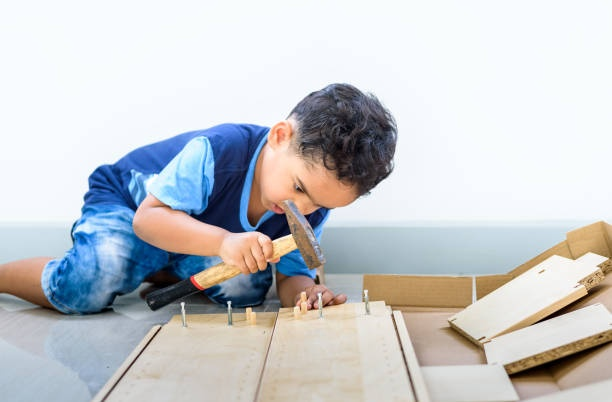hammer: (142, 200, 325, 300)
person: (49, 82, 397, 311)
